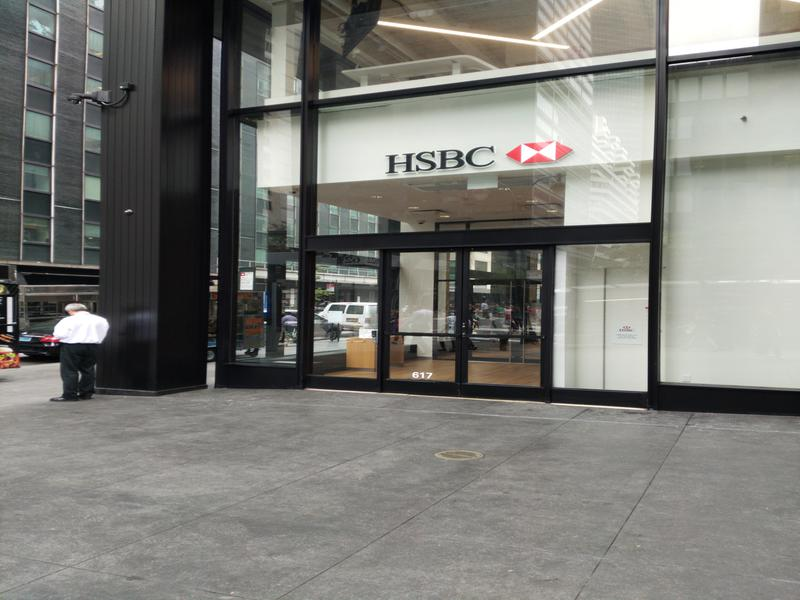double_door: (383, 244, 555, 399)
